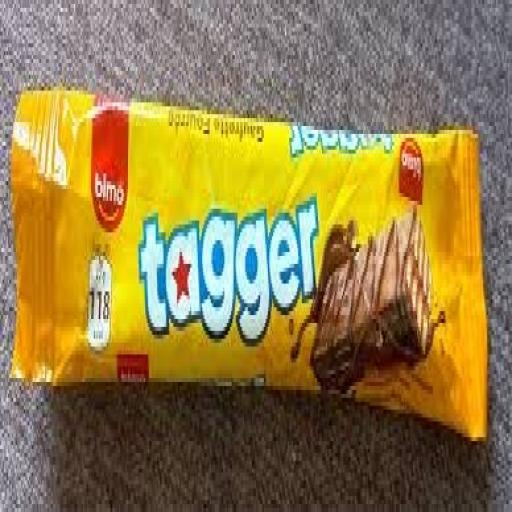tagger: (7, 24, 501, 483)
